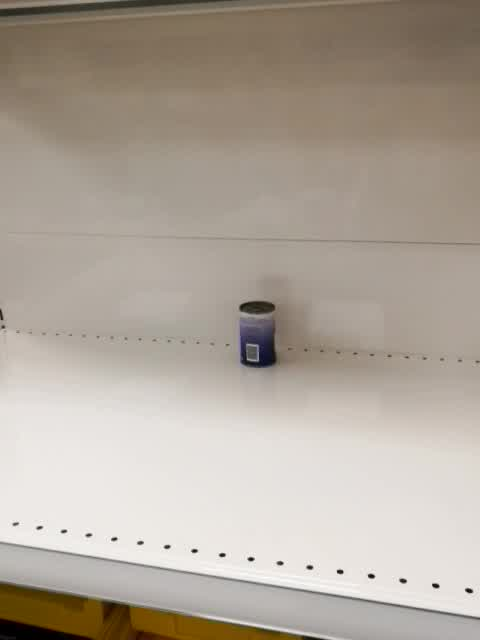sardine: (237, 299, 278, 369)
